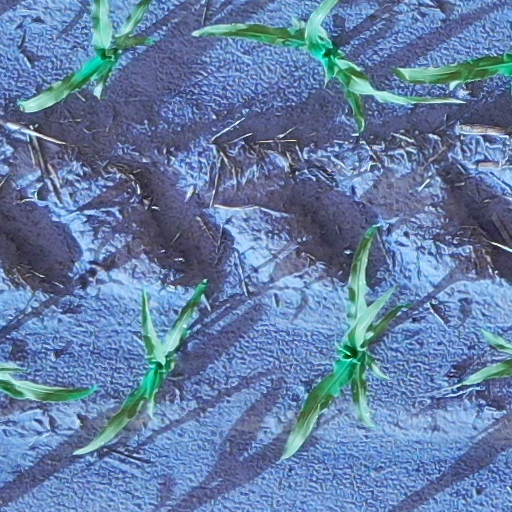planta: (283, 225, 397, 457), (75, 280, 207, 454)
